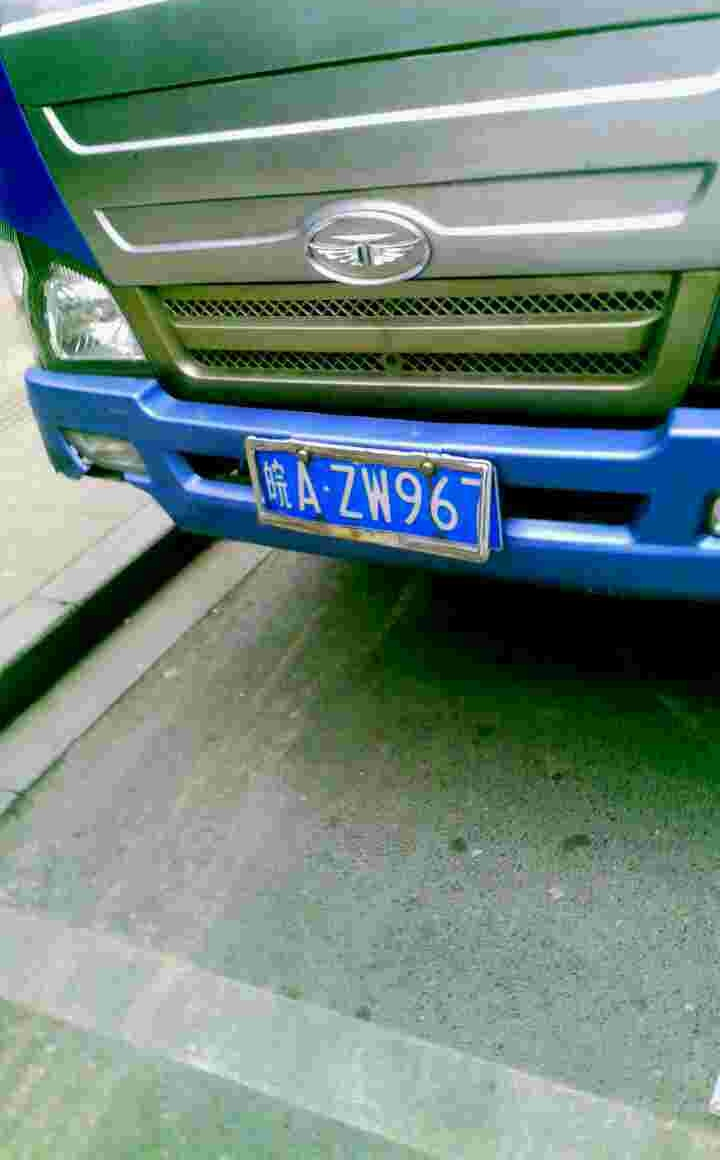license_plate: (219, 441, 506, 545)
